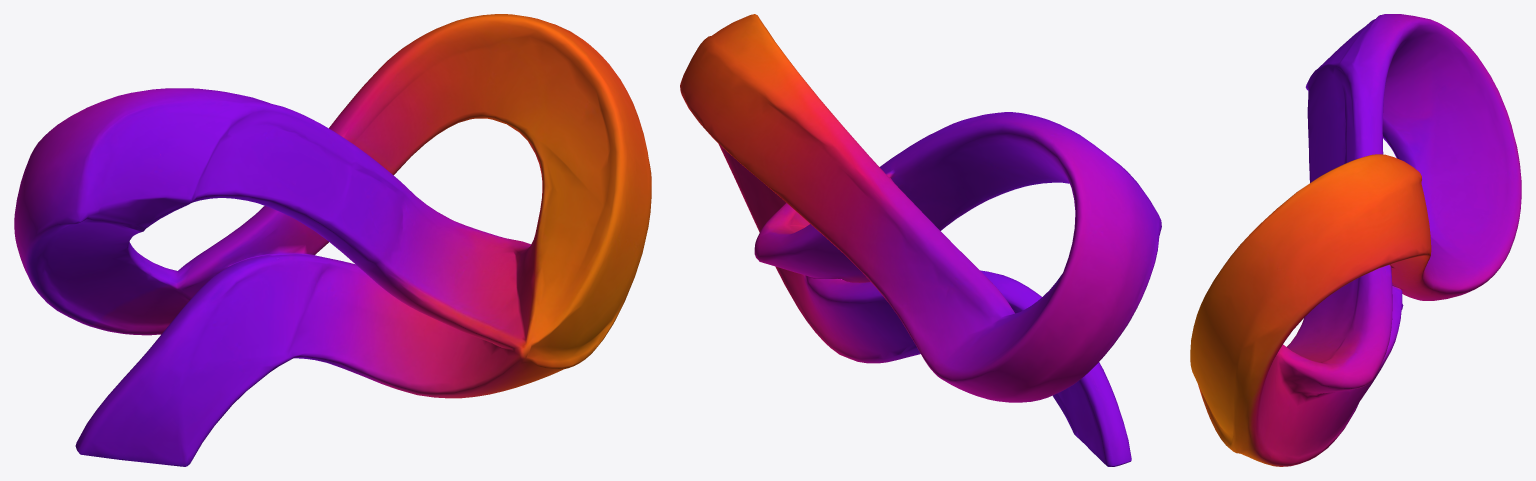
Rendered from infinity.glb.
The picture shows the model from 3 angles, left to right: view 1: azimuth 30°, elevation 25°; view 2: azimuth 150°, elevation 25°; view 3: azimuth 270°, elevation 25°; orthographic projection. The views are drawn at different scales.
Visible parts, largest first — view 1: tripo_node_220ce14c-7704-467c-bab9-933b9fe23b27; view 2: tripo_node_220ce14c-7704-467c-bab9-933b9fe23b27; view 3: tripo_node_220ce14c-7704-467c-bab9-933b9fe23b27.
Part boxes in pixels (x1,y1,x2,y2): tripo_node_220ce14c-7704-467c-bab9-933b9fe23b27: (14,14,651,466); tripo_node_220ce14c-7704-467c-bab9-933b9fe23b27: (680,14,1161,466); tripo_node_220ce14c-7704-467c-bab9-933b9fe23b27: (1190,14,1521,466).
Size of the model in its own units: 0.9802 by 0.6151 by 0.5532.
Materials: 1 (1 with a texture image).
